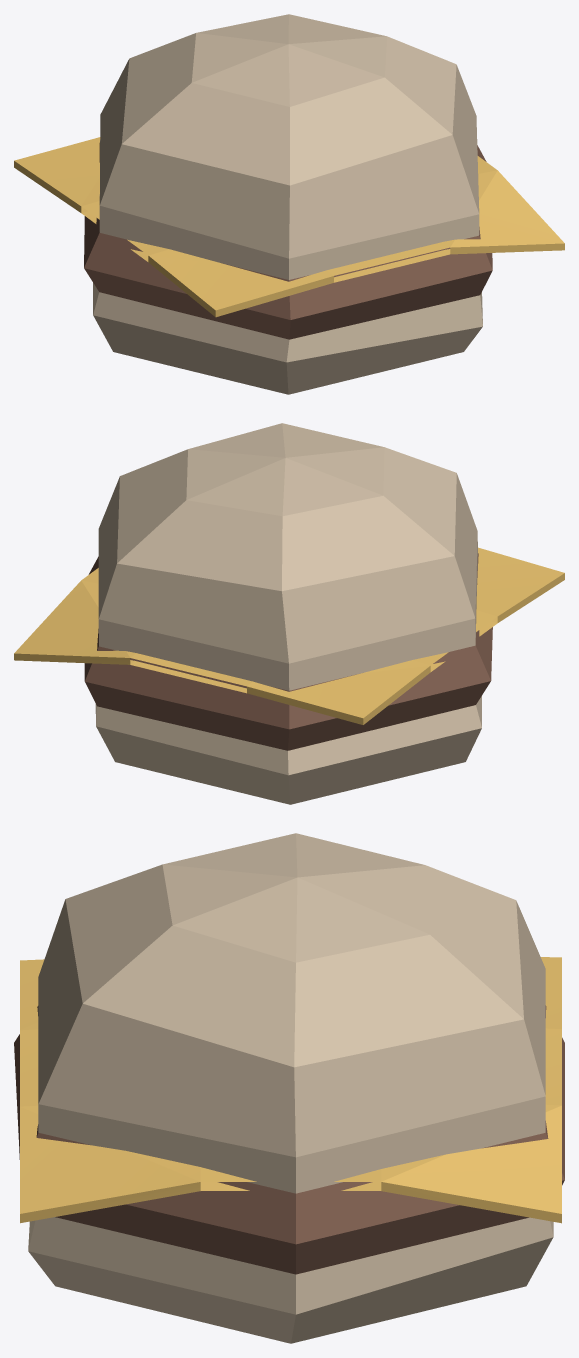
The model's file is Burger.fbx.
3 renders of one model, top to bottom at view 1: azimuth 30°, elevation 25°; view 2: azimuth 150°, elevation 25°; view 3: azimuth 270°, elevation 25°, orthographic. The views are drawn at different scales.
Visible parts, largest first — view 1: Cylinder; view 2: Cylinder; view 3: Cylinder.
Boxes of the visible parts, left/top/right/bottom form: Cylinder: left=14, top=14, right=564, bottom=394; Cylinder: left=14, top=423, right=564, bottom=804; Cylinder: left=14, top=833, right=564, bottom=1343.
Bounding box in the file's own units: 0.33 × 0.2035 × 0.2879.
